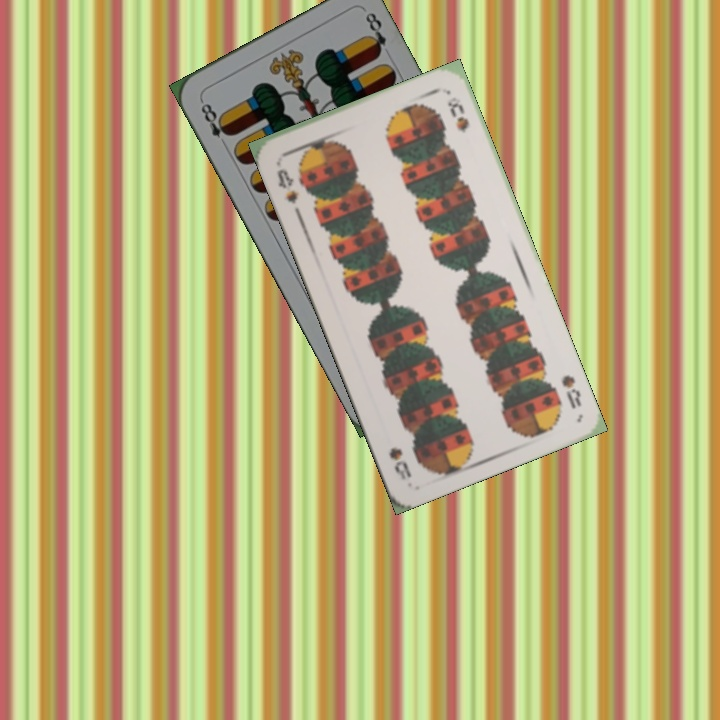E8: (196, 96, 235, 151)
S8: (272, 165, 301, 207), (557, 371, 584, 412)
